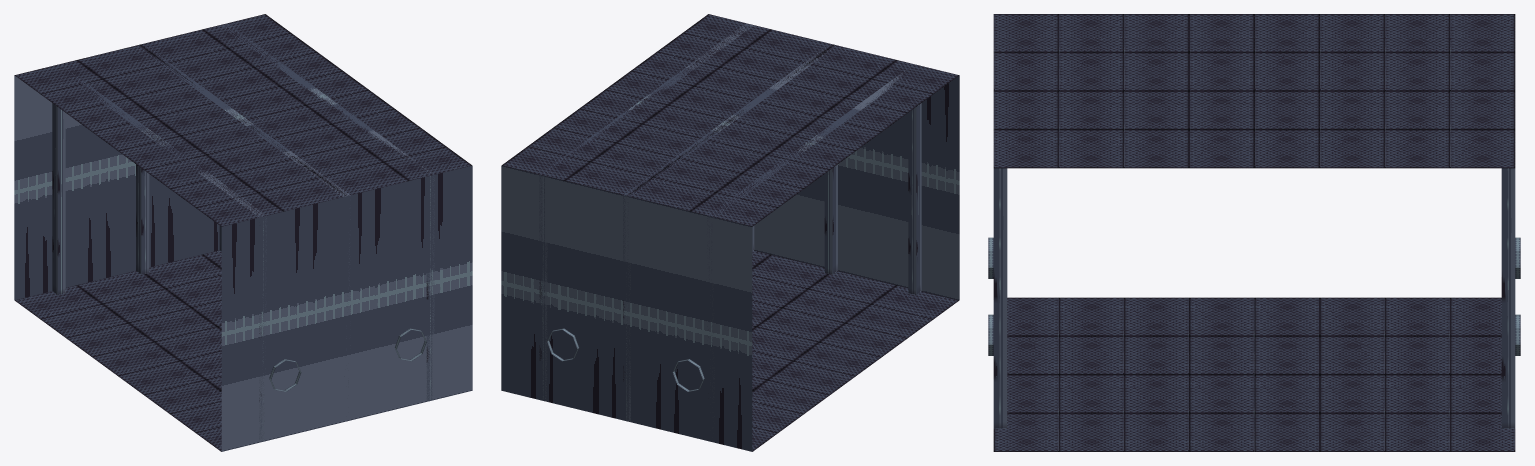
Rendered from SUB-01_Tramo_de_nave.gltf.
3 renders of one model, left to right at view 1: azimuth 30°, elevation 25°; view 2: azimuth 150°, elevation 25°; view 3: azimuth 270°, elevation 25°, orthographic. The views are drawn at different scales.
Visible parts, largest first — view 1: SUB-01_Tramo_de_nave-col; view 2: SUB-01_Tramo_de_nave-col; view 3: SUB-01_Tramo_de_nave-col.
Boxes of the visible parts, x1,y1,x2,y2 form: SUB-01_Tramo_de_nave-col: [14, 14, 472, 451]; SUB-01_Tramo_de_nave-col: [501, 14, 959, 451]; SUB-01_Tramo_de_nave-col: [988, 14, 1520, 451].
Bounding box in the file's own units: 7 × 6 × 10.2.
1 material, 1 textured.
